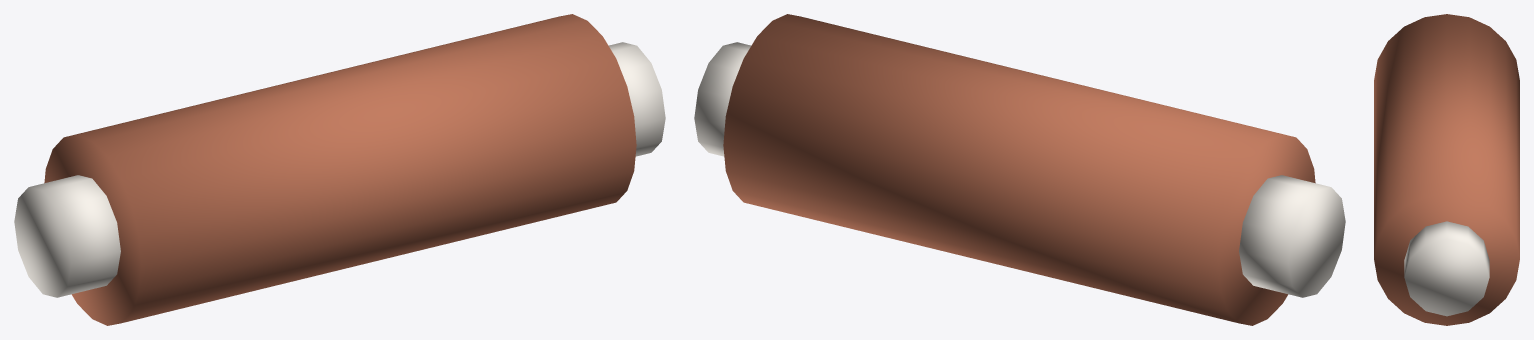
File: vintage_cushion_03.glb
3 renders of one model, left to right at view 1: azimuth 30°, elevation 25°; view 2: azimuth 150°, elevation 25°; view 3: azimuth 270°, elevation 25°, orthographic. The views are drawn at different scales.
Visible parts, largest first — view 1: vintage_cushion_03; view 2: vintage_cushion_03; view 3: vintage_cushion_03.
Part boxes in pixels (x1,y1,x2,y2): vintage_cushion_03: (14,14,665,325); vintage_cushion_03: (694,14,1345,325); vintage_cushion_03: (1374,14,1519,325).
Size of the model in its own units: 0.84 by 0.24 by 0.24.
